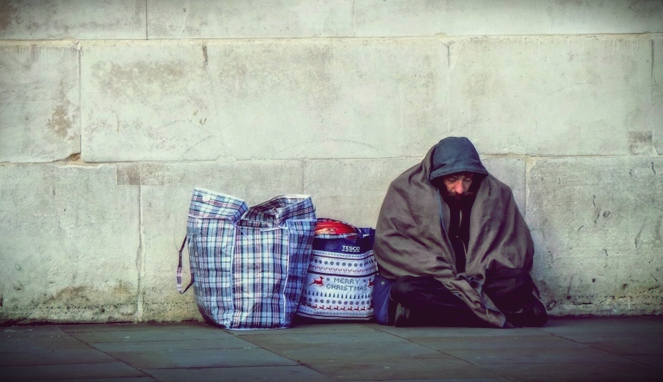gelandangan: (171, 134, 558, 331)
